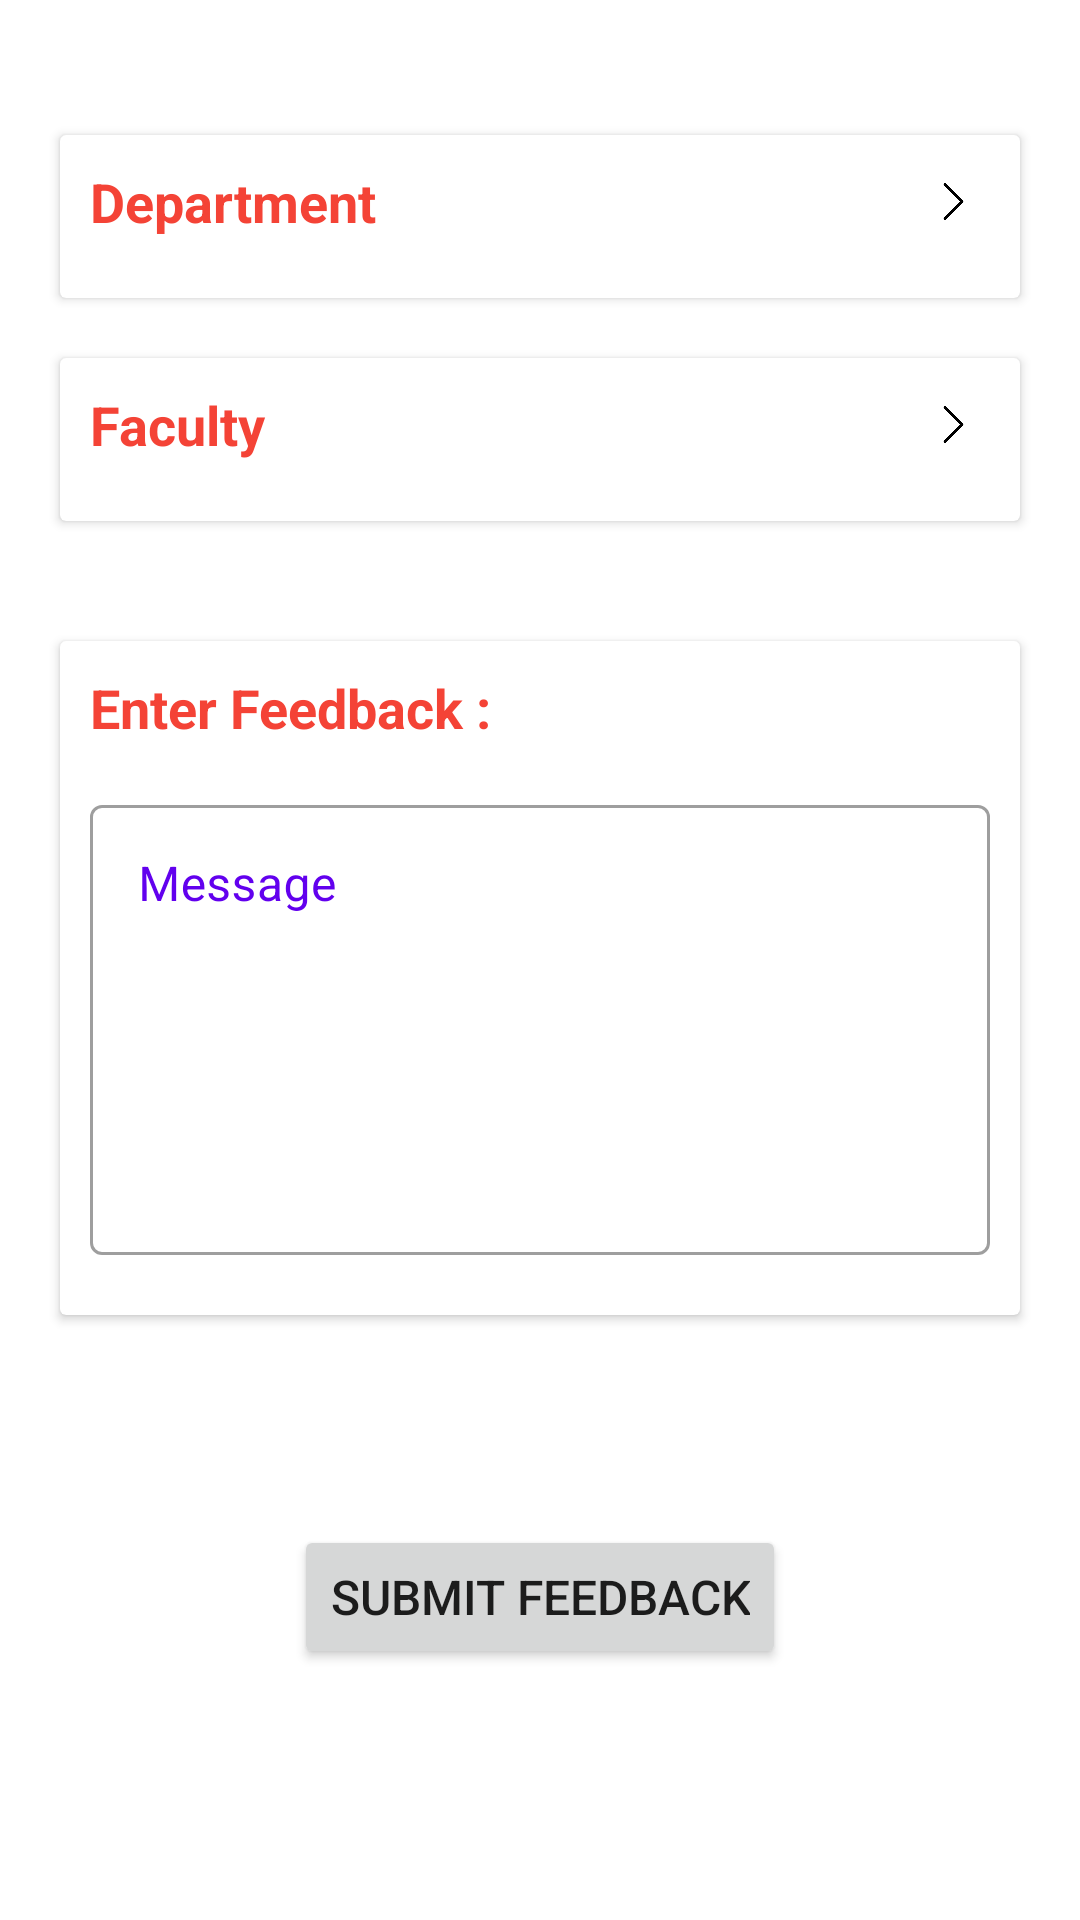

Screen size 1080w x 1920h. Icon name, then its center in pixels as [x,y]:
next: [953,201], [953,424]
